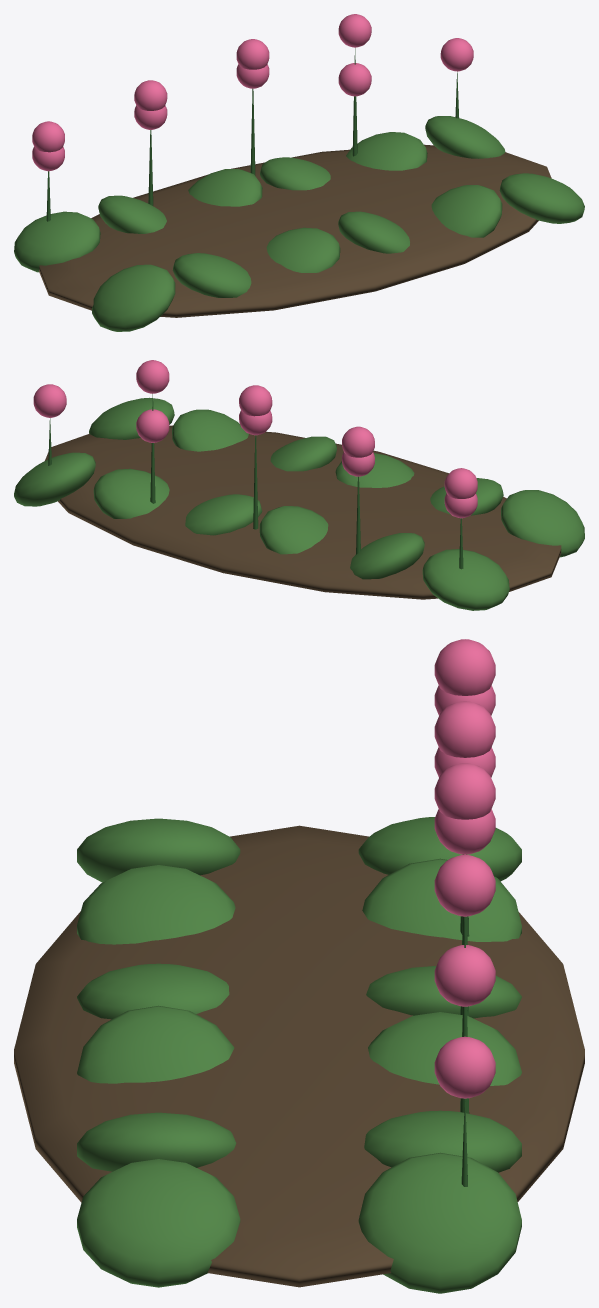
The model's file is perennial.gltf.
3 renders of one model, top to bottom at view 1: azimuth 30°, elevation 25°; view 2: azimuth 150°, elevation 25°; view 3: azimuth 270°, elevation 25°, orthographic. The views are drawn at different scales.
Visible parts, largest first — view 1: Soil, Leaf7, Leaf1, Leaf12, Leaf11, Leaf8, Leaf9, Leaf6, Leaf5, Leaf3, Leaf10, Leaf2 (+10 smaller); view 2: Soil, Leaf1, Leaf7, Leaf6, Leaf5, Leaf3, Leaf11, Leaf2, Leaf4, Leaf12, Leaf10, Leaf9 (+11 smaller); view 3: Soil, Leaf6, Leaf12, Leaf8, Leaf10, Leaf7, Leaf2, Leaf11, Leaf5, Leaf4, Leaf9, Leaf1 (+10 smaller).
Boxes of the visible parts, x1=… form: Soil: x1=39, y1=144, x2=551, y2=317; Leaf7: x1=92, y1=264, x2=175, y2=331; Leaf1: x1=14, y1=211, x2=100, y2=272; Leaf12: x1=499, y1=173, x2=584, y2=223; Leaf11: x1=431, y1=185, x2=502, y2=237; Leaf8: x1=172, y1=253, x2=251, y2=297; Leaf9: x1=266, y1=227, x2=340, y2=272; Leaf6: x1=425, y1=116, x2=505, y2=158; Leaf5: x1=346, y1=132, x2=427, y2=170; Leaf3: x1=188, y1=169, x2=262, y2=206; Leaf10: x1=338, y1=211, x2=409, y2=253; Leaf2: x1=98, y1=195, x2=166, y2=233; Soil: x1=45, y1=425, x2=561, y2=599; Leaf1: x1=422, y1=549, x2=509, y2=610; Leaf7: x1=501, y1=490, x2=584, y2=557; Leaf6: x1=14, y1=452, x2=95, y2=506; Leaf5: x1=93, y1=468, x2=169, y2=518; Leaf3: x1=259, y1=506, x2=328, y2=554; Leaf11: x1=172, y1=409, x2=248, y2=451; Leaf2: x1=350, y1=533, x2=424, y2=579; Leaf4: x1=185, y1=494, x2=262, y2=535; Leaf12: x1=89, y1=397, x2=174, y2=439; Leaf10: x1=270, y1=436, x2=336, y2=471; Leaf9: x1=335, y1=453, x2=414, y2=487; Soil: x1=14, y1=825, x2=584, y2=1287; Leaf6: x1=358, y1=1152, x2=521, y2=1293; Leaf12: x1=77, y1=1159, x2=240, y2=1287; Leaf8: x1=77, y1=865, x2=235, y2=944; Leaf10: x1=77, y1=1005, x2=234, y2=1083; Leaf7: x1=77, y1=818, x2=240, y2=882; Leaf2: x1=362, y1=858, x2=521, y2=941; Leaf11: x1=77, y1=1112, x2=236, y2=1171; Leaf5: x1=364, y1=1110, x2=521, y2=1172; Leaf4: x1=368, y1=1012, x2=521, y2=1085; Leaf9: x1=77, y1=963, x2=229, y2=1019; Leaf1: x1=358, y1=817, x2=521, y2=881.
Size of the model in its own units: 2.56 by 0.879 by 1.38.
